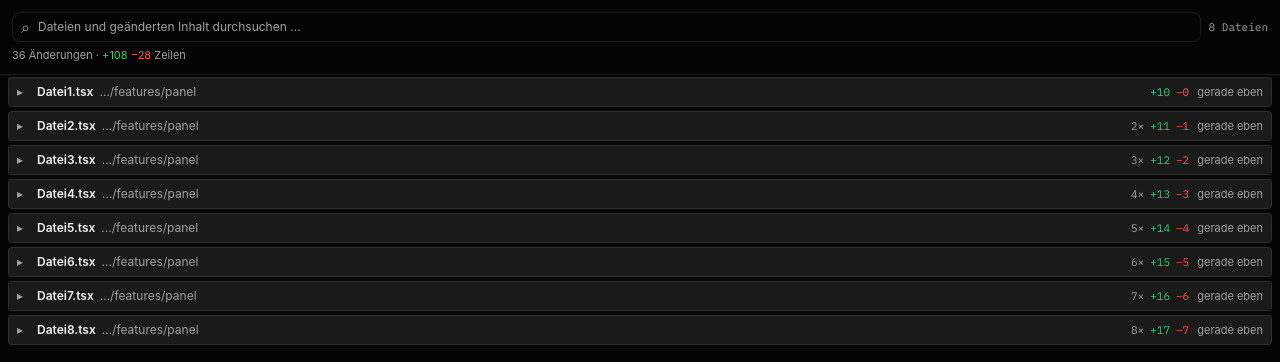
Reiter „Änderungen“ durchsuchbar › Suchfeld filtert (Server-Suche nach Datei und Inhalt), zeigt „x von y“ und hebt Treffer hervor
The image size is (1280, 362).
Expected: the text with test id "changes-count" reads "8 Dateien", [1209, 20, 1268, 34]
Expected: the text "Datei1.tsx" is shown, [37, 84, 93, 100]
Type "zaehler" into the search field named "Änderungen durchsuchen" at (615, 27), box [38, 19, 1192, 35]
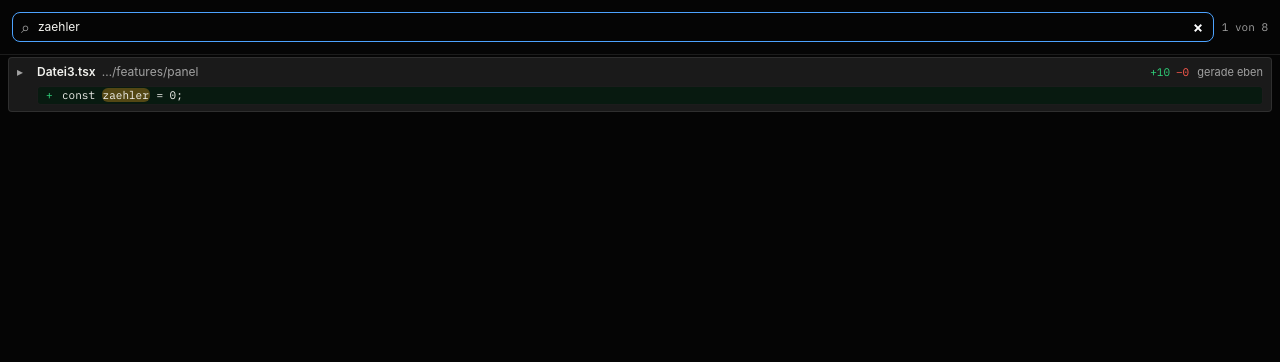
Expected: the text with test id "changes-count" reads "1 von 8", [1222, 20, 1268, 34]
Expected: the button "Datei1.tsx" is gone
Expected: the element showing "const zaehler = 0;" is shown, [62, 87, 183, 104]
